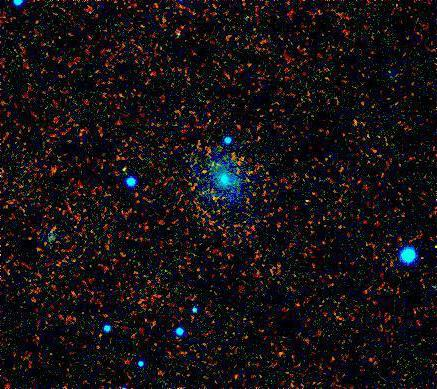star: (194, 152, 224, 182)
